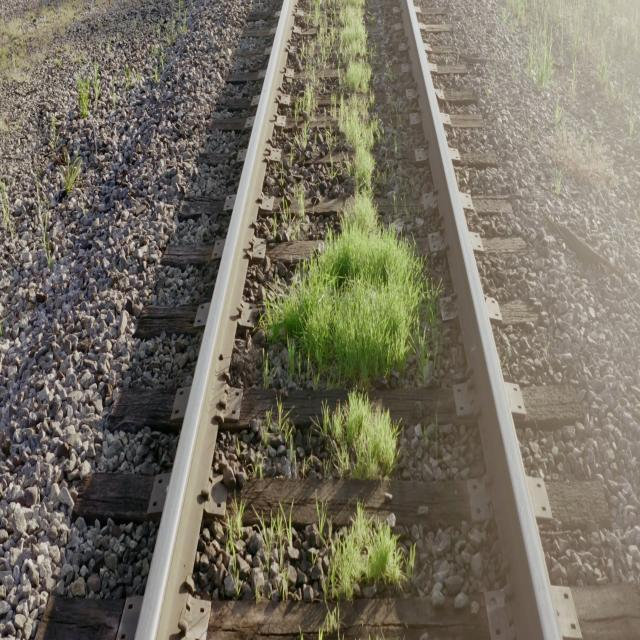Plant: (262, 0, 440, 480), (265, 216, 439, 387), (301, 509, 415, 600), (260, 513, 295, 598), (320, 604, 340, 636), (226, 518, 240, 551), (278, 409, 290, 427)
